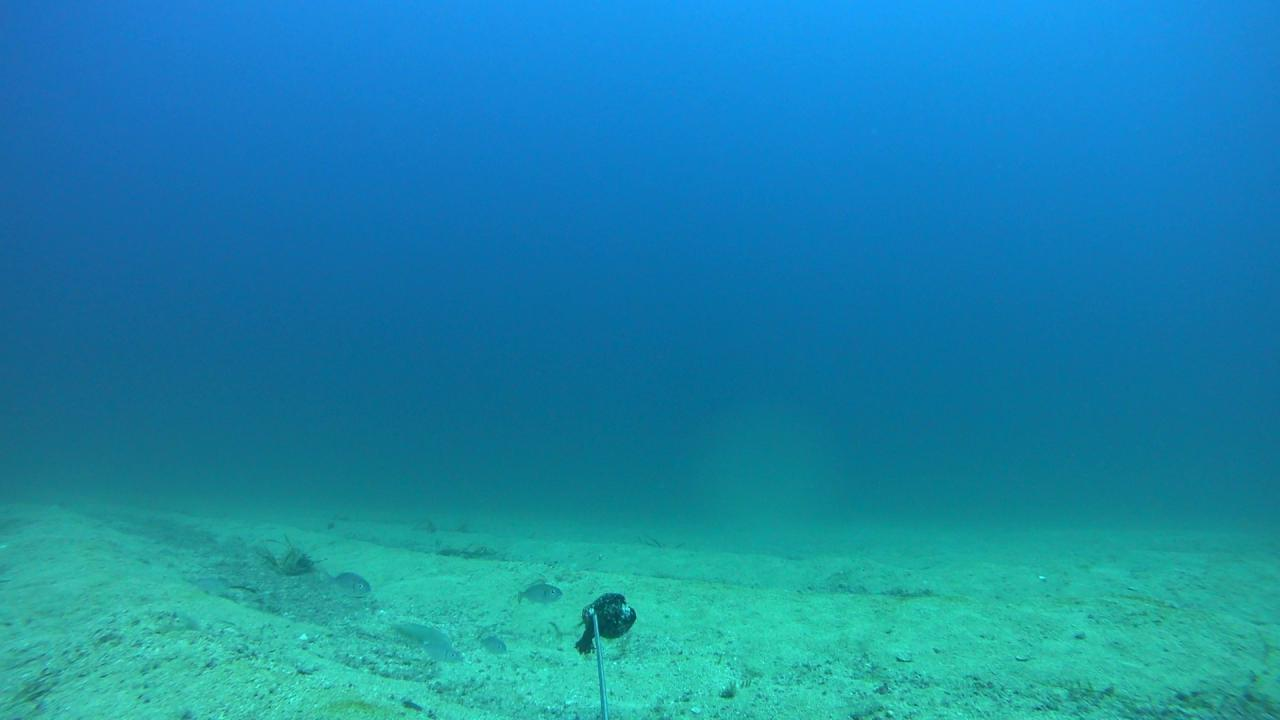pagellus: (411, 636, 464, 664), (320, 570, 369, 597), (515, 581, 561, 605)
